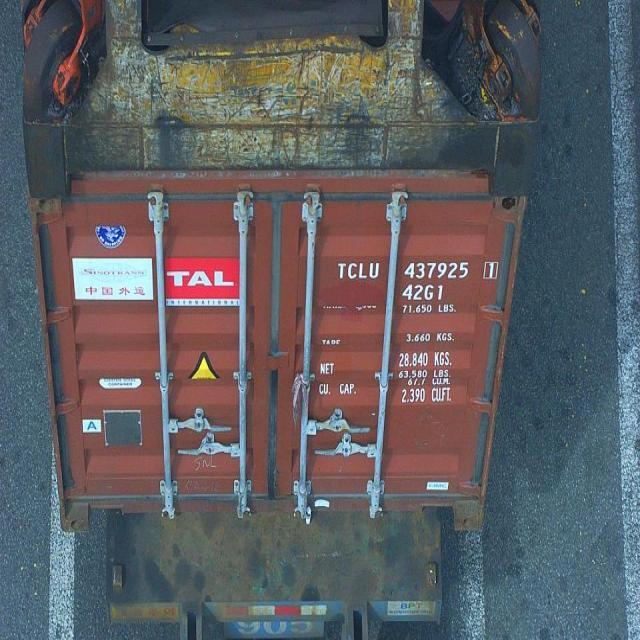ISO: (402, 280, 445, 302)
container_number: (335, 256, 498, 284)
